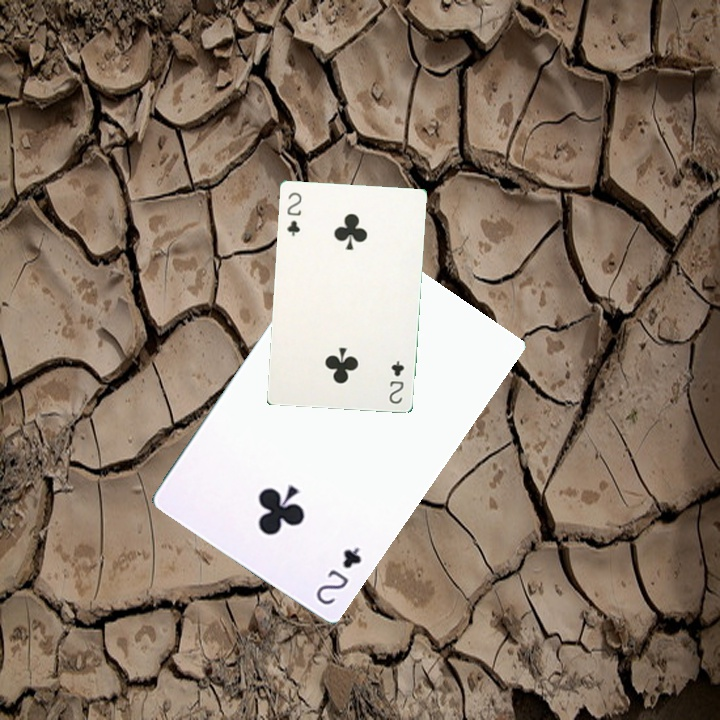2c: (311, 542, 364, 608), (283, 188, 304, 239), (385, 356, 406, 406)
